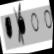correct: (1, 13, 17, 43)
not correct: (10, 0, 31, 47)
